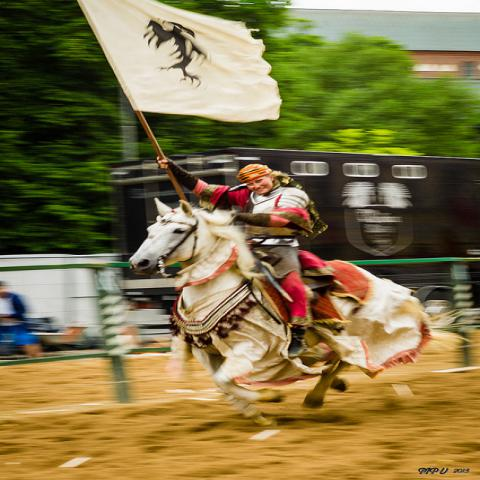truck: (104, 146, 479, 318)
